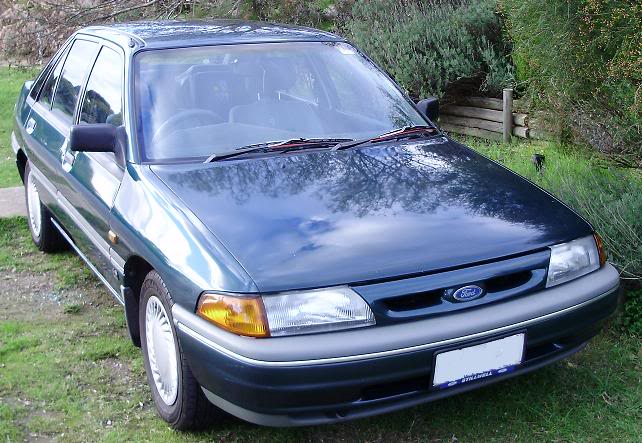sedan: (13, 22, 622, 430)
